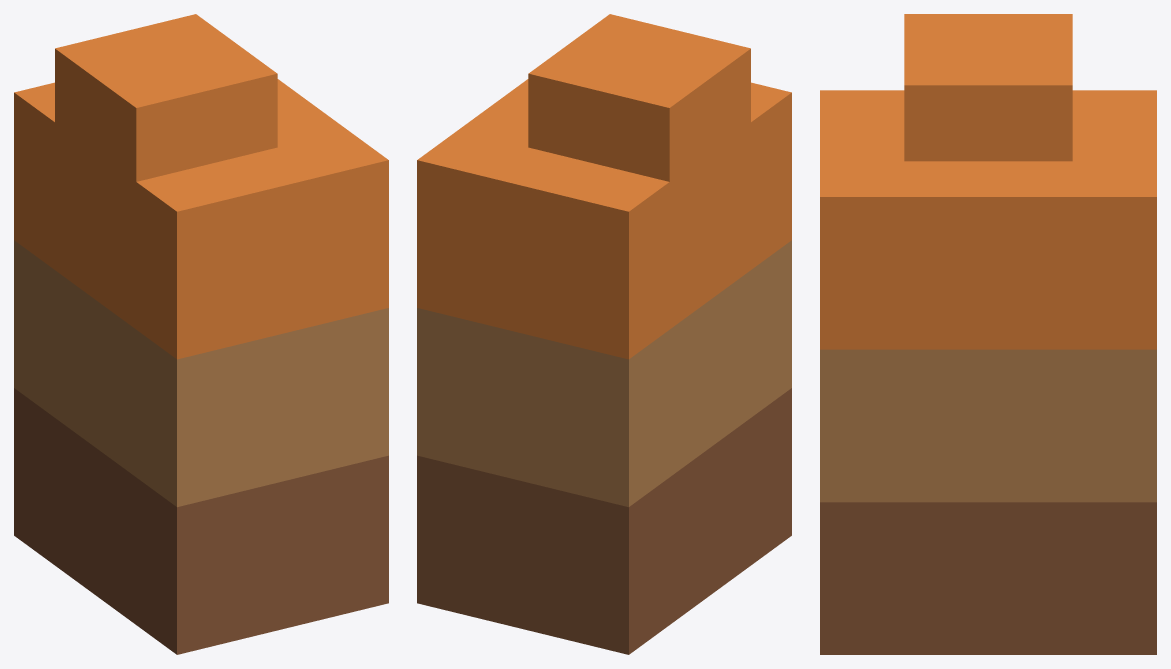
The model's file is cleric__arm_r.glb.
The picture shows the model from 3 angles, left to right: view 1: azimuth 30°, elevation 25°; view 2: azimuth 150°, elevation 25°; view 3: azimuth 270°, elevation 25°; orthographic projection. The views are drawn at different scales.
Visible parts, largest first — view 1: cleric__arm_r; view 2: cleric__arm_r; view 3: cleric__arm_r.
Part boxes in pixels (box(x1,y1,x2,y2)): cleric__arm_r: box(14, 14, 388, 654); cleric__arm_r: box(417, 14, 791, 654); cleric__arm_r: box(820, 14, 1156, 654).
Bounding box in the file's own units: 0.3 × 0.7 × 0.4.
Materials: 1 (1 with a texture image).
